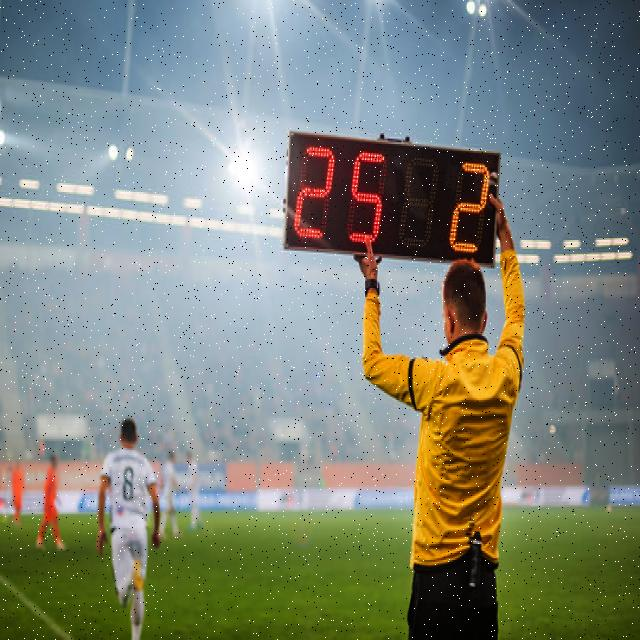substitution: (281, 125, 508, 268)
